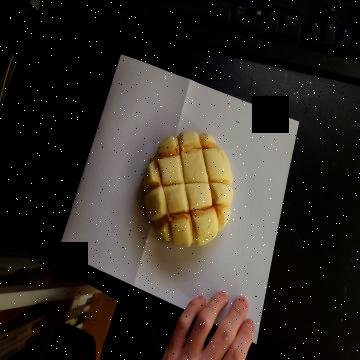melon_bread: (137, 130, 238, 246)
